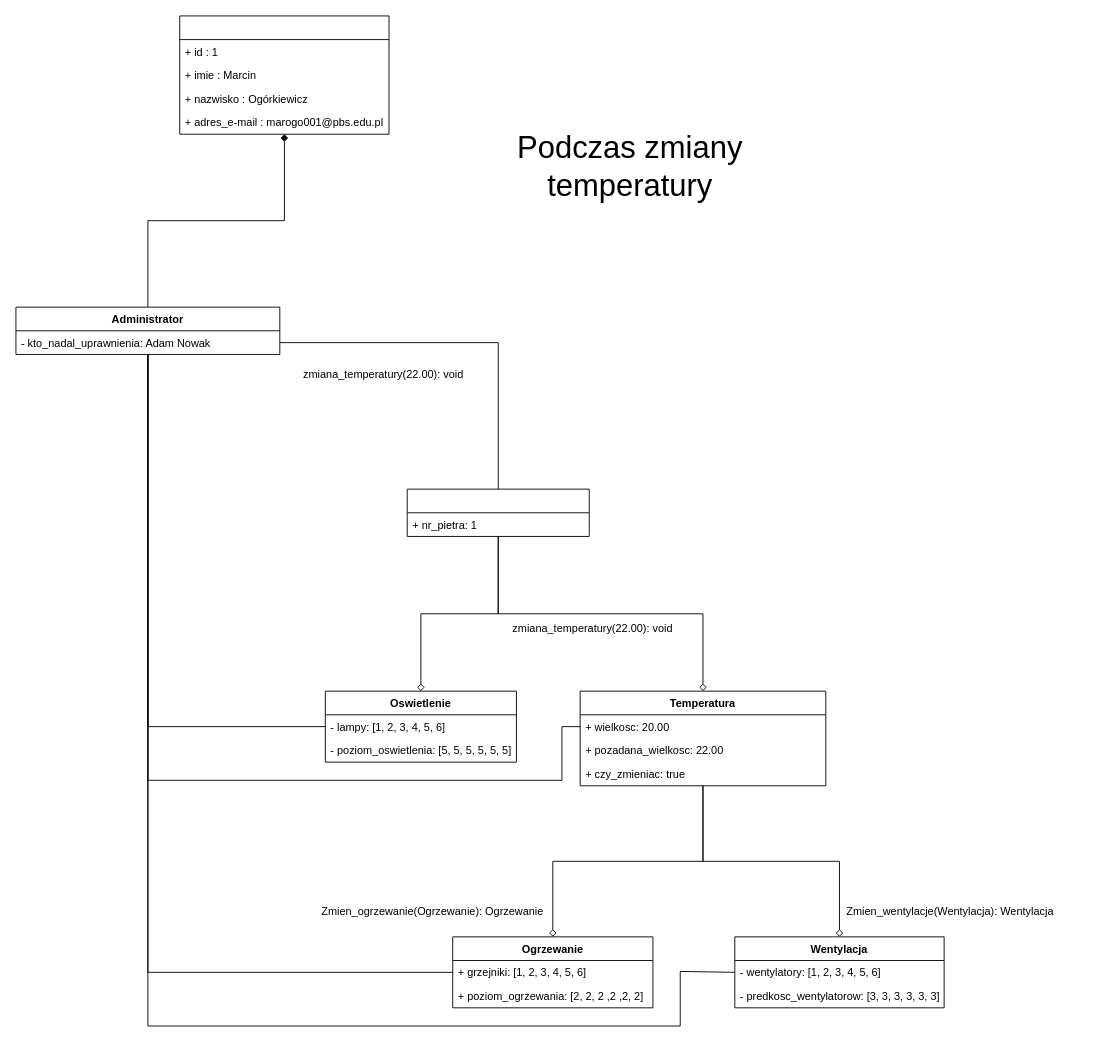
Some shapes in this 1103 by 1043 pixel diagram are drawn without their labels. The box of each missing label's shape, as (x1, y1, x2, y2) in pixels:
Kondygnacja: (406, 488, 589, 536)
Uzytkownik: (179, 15, 389, 134)
